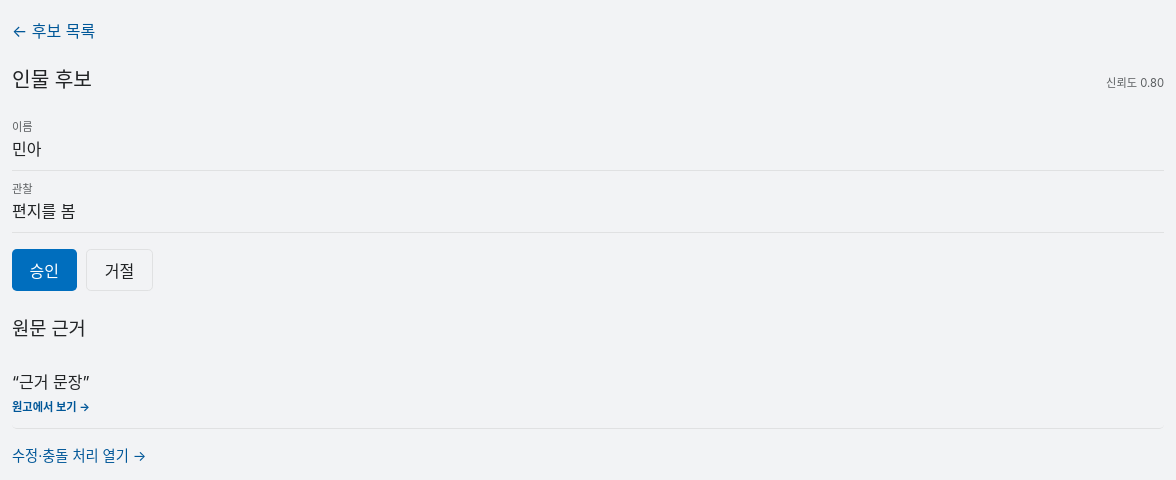
WorkspaceReviewPanel › runs the distinct server-declared reject action and reloads the list
Click the button "거절" at (120, 270), box [86,249,153,291]
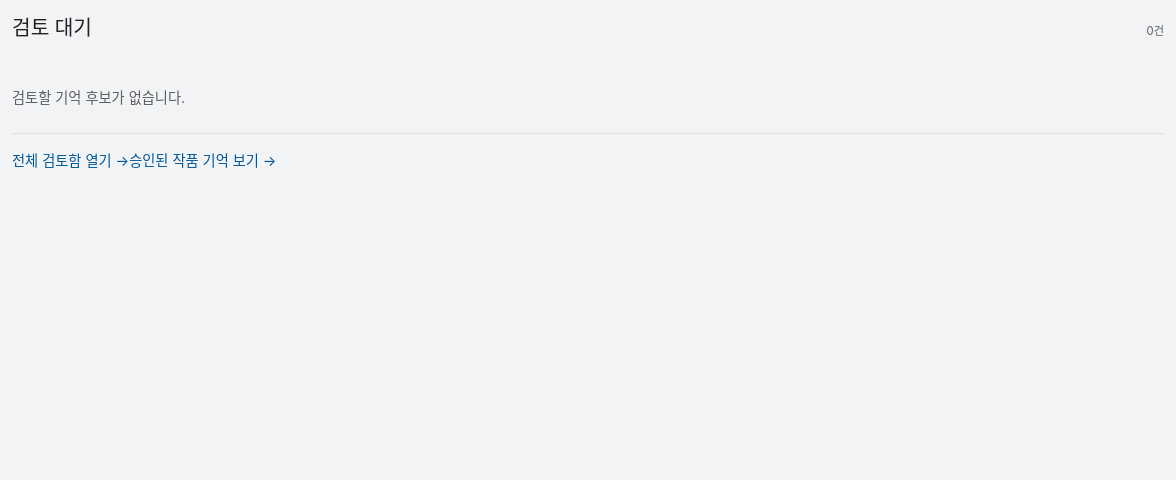
Expected: the text "검토할 기억 후보가 없습니다." is shown, [12,65,1164,134]
